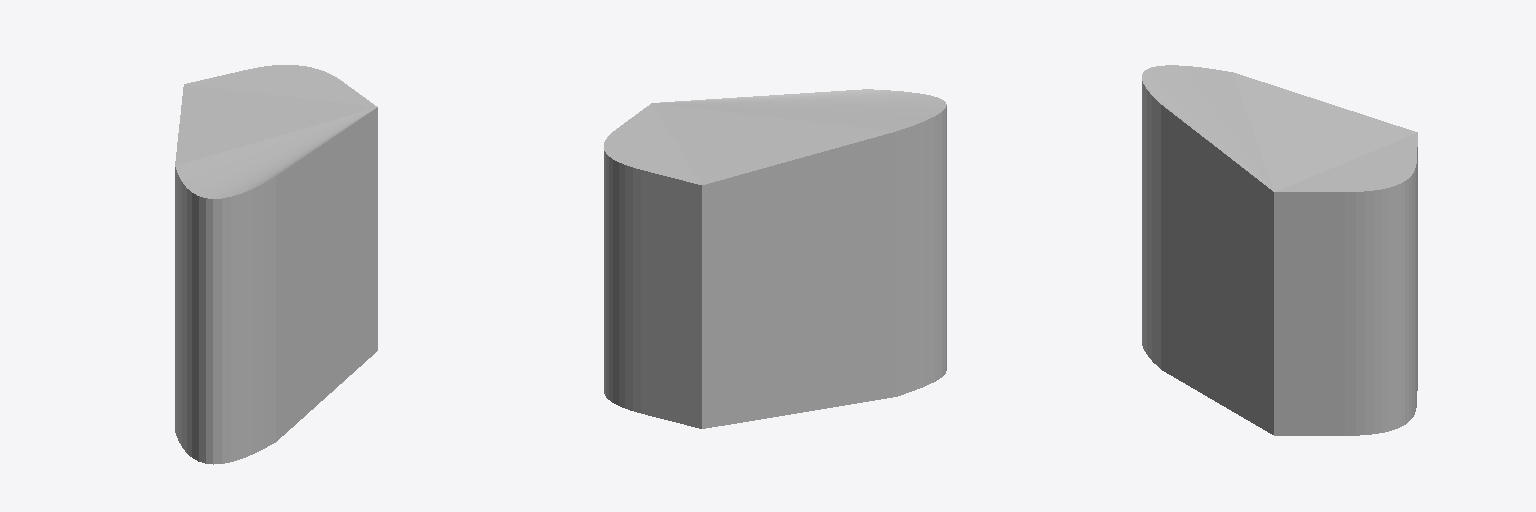
File: レバー左.obj
3 renders of one model, left to right at view 1: azimuth 30°, elevation 25°; view 2: azimuth 150°, elevation 25°; view 3: azimuth 270°, elevation 25°, orthographic.
Parts seen in each view (by area): view 1: Box008; view 2: Box008; view 3: Box008.
Part boxes in pixels (x1,y1,x2,y2): Box008: (175, 65, 377, 464); Box008: (604, 89, 946, 428); Box008: (1142, 65, 1417, 435).
Size of the model in its own units: 9.47 by 10.1 by 9.53.